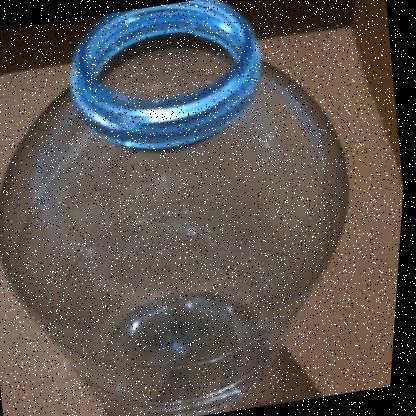open bottle: (1, 1, 400, 406)
